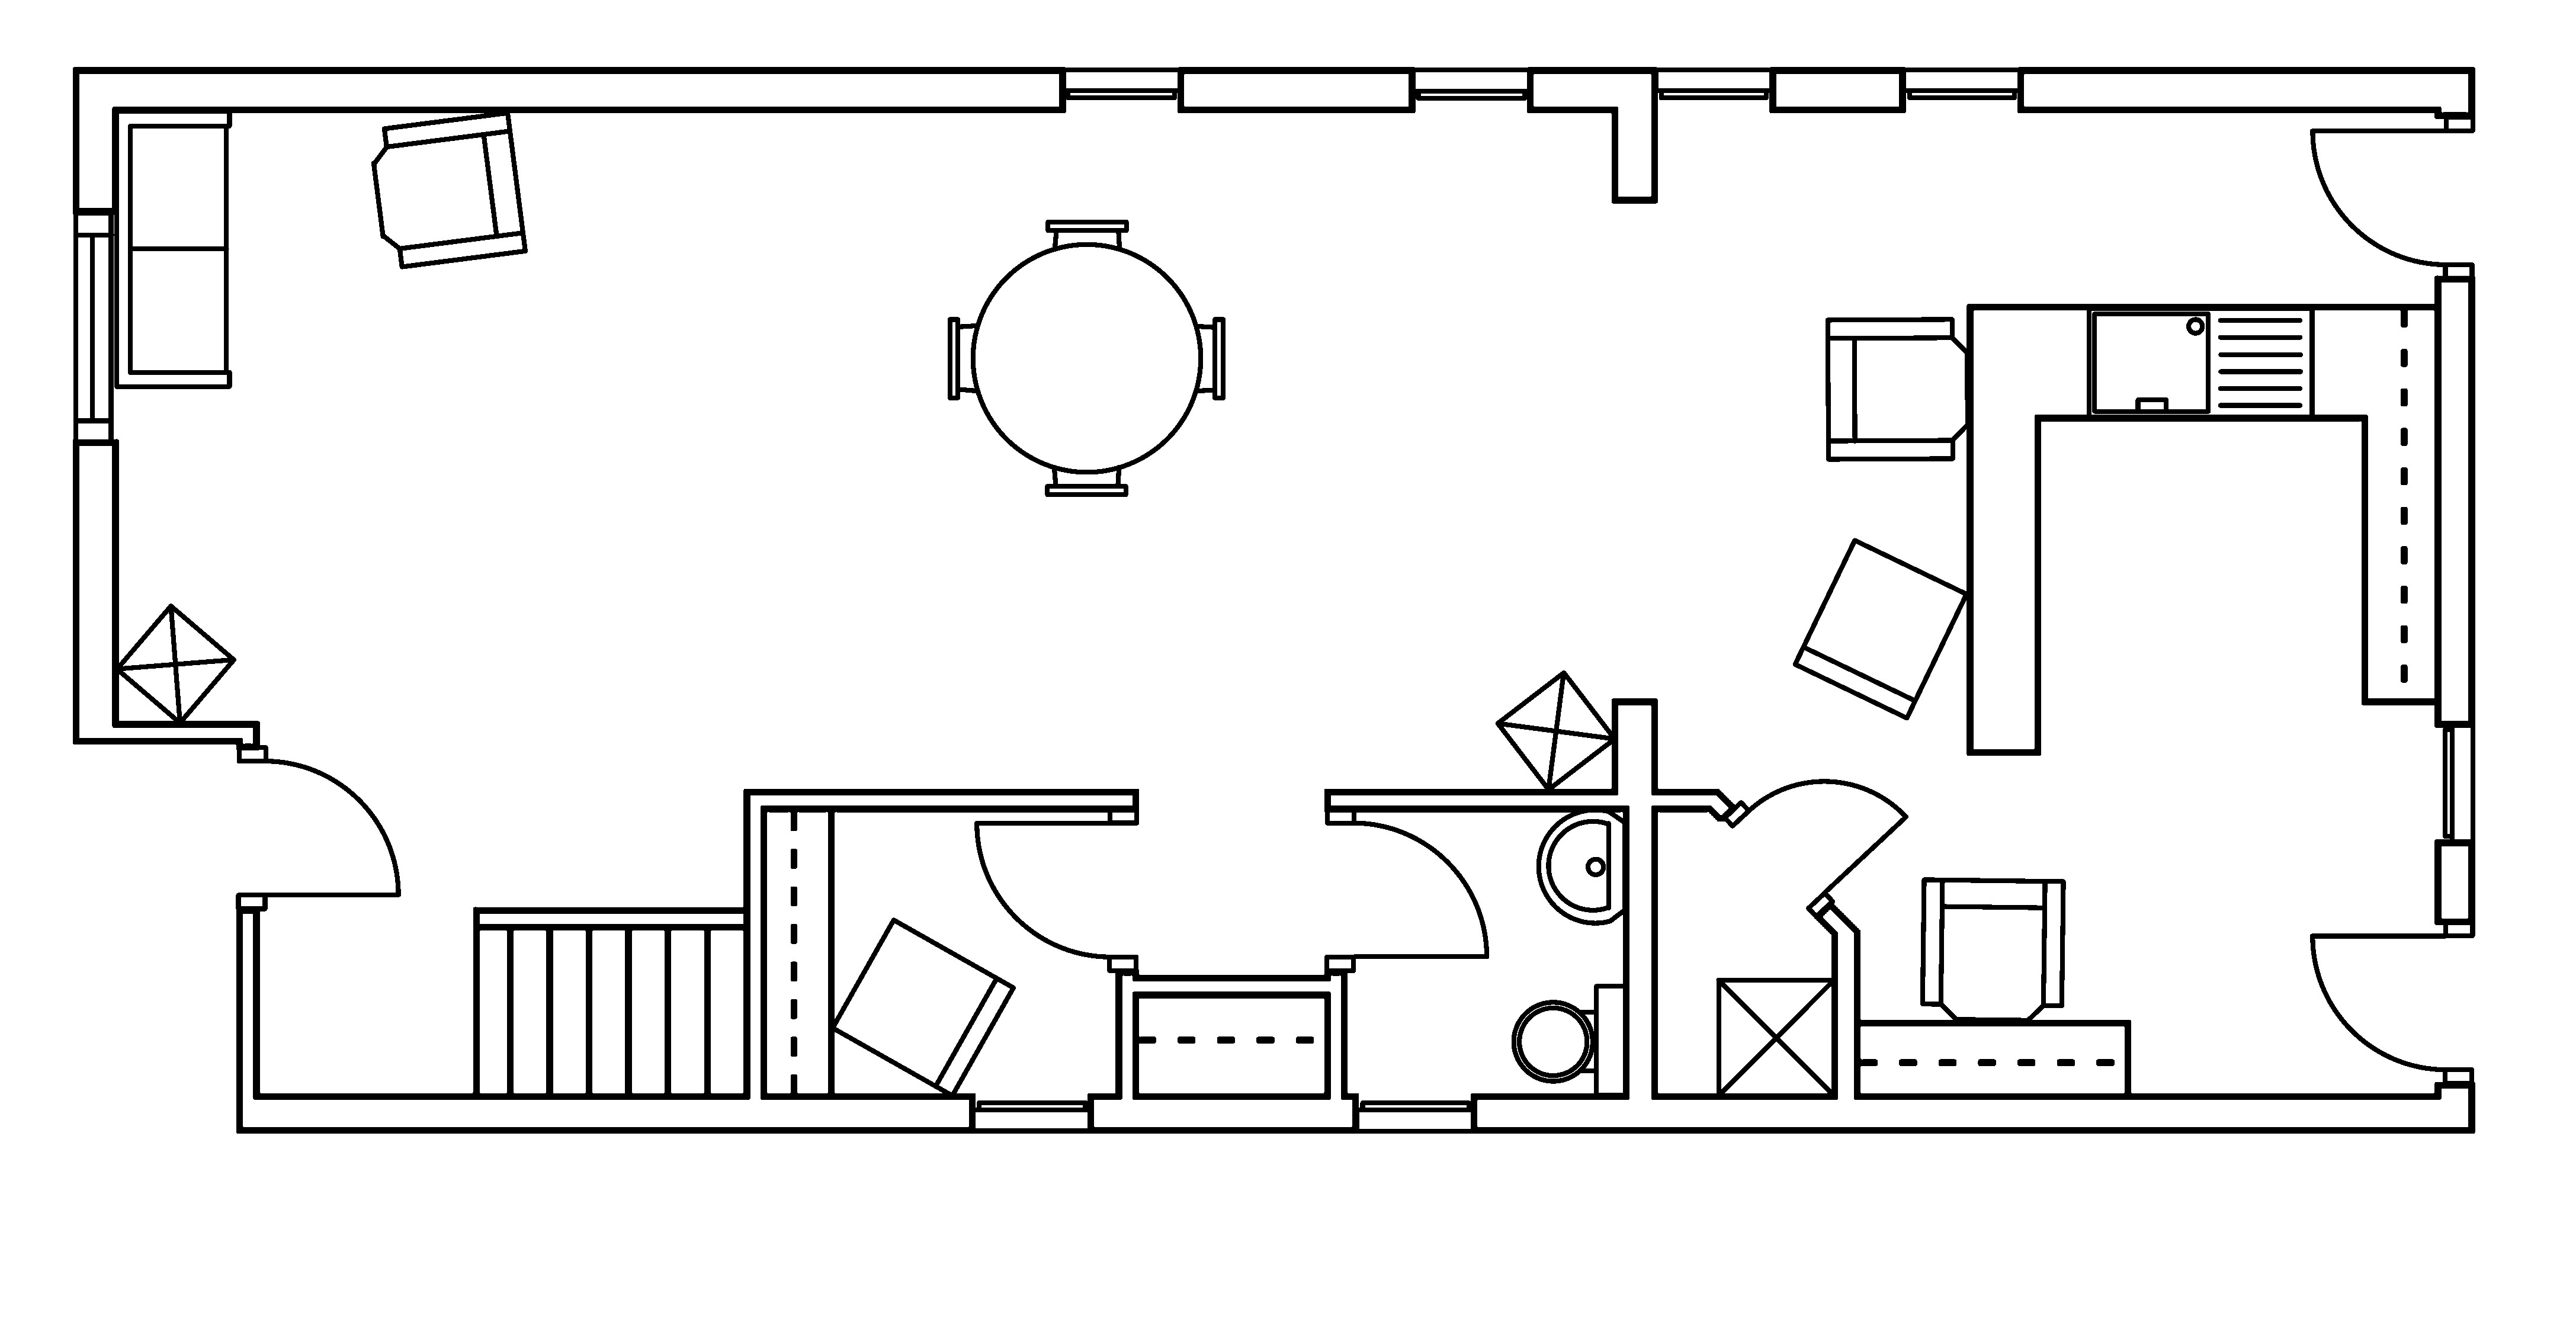armchair: (370, 109, 528, 269), (1919, 877, 2067, 1023), (1824, 316, 1971, 463)
coffee_table: (1493, 670, 1618, 792), (113, 602, 237, 725), (1715, 976, 1836, 1099)
large_sink: (1512, 983, 1628, 1097)
large_sofa: (113, 108, 232, 389)
round_table: (947, 219, 1226, 496)
sink: (2085, 305, 2314, 421)
small_sink: (1535, 808, 1628, 925)
small_sofa: (829, 917, 1016, 1099), (1791, 537, 1969, 720)
